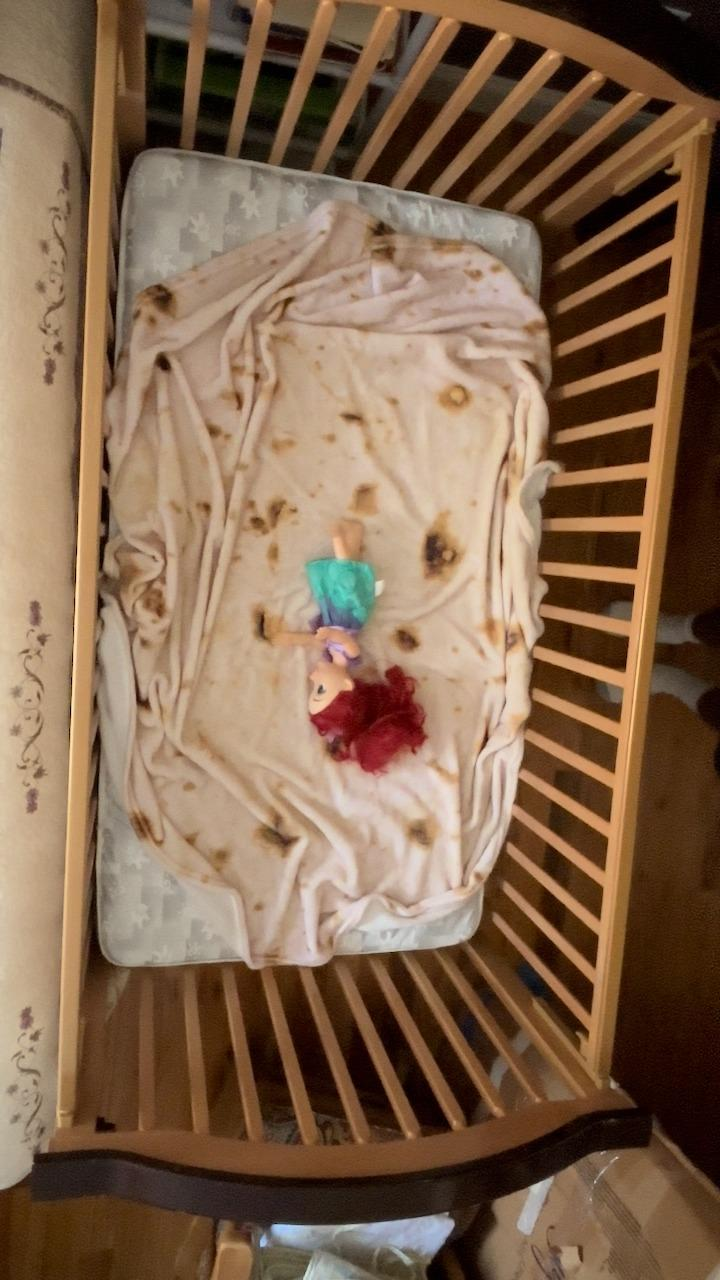baby: (288, 510, 424, 762)
